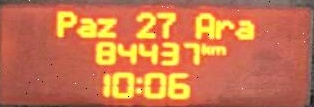0: (111, 70, 133, 98), (143, 70, 164, 98)
1: (100, 69, 110, 98)
2: (133, 9, 158, 39)
3: (160, 39, 179, 64)
4: (114, 41, 137, 64), (137, 41, 158, 64)
6: (167, 71, 192, 98)
7: (156, 10, 176, 38), (183, 42, 200, 66)
8: (93, 40, 114, 65)
X: (53, 7, 75, 36), (196, 11, 215, 39), (96, 16, 118, 37), (235, 19, 255, 40), (215, 17, 233, 38), (77, 16, 95, 37), (132, 75, 142, 94), (210, 44, 226, 55), (200, 40, 210, 55)
